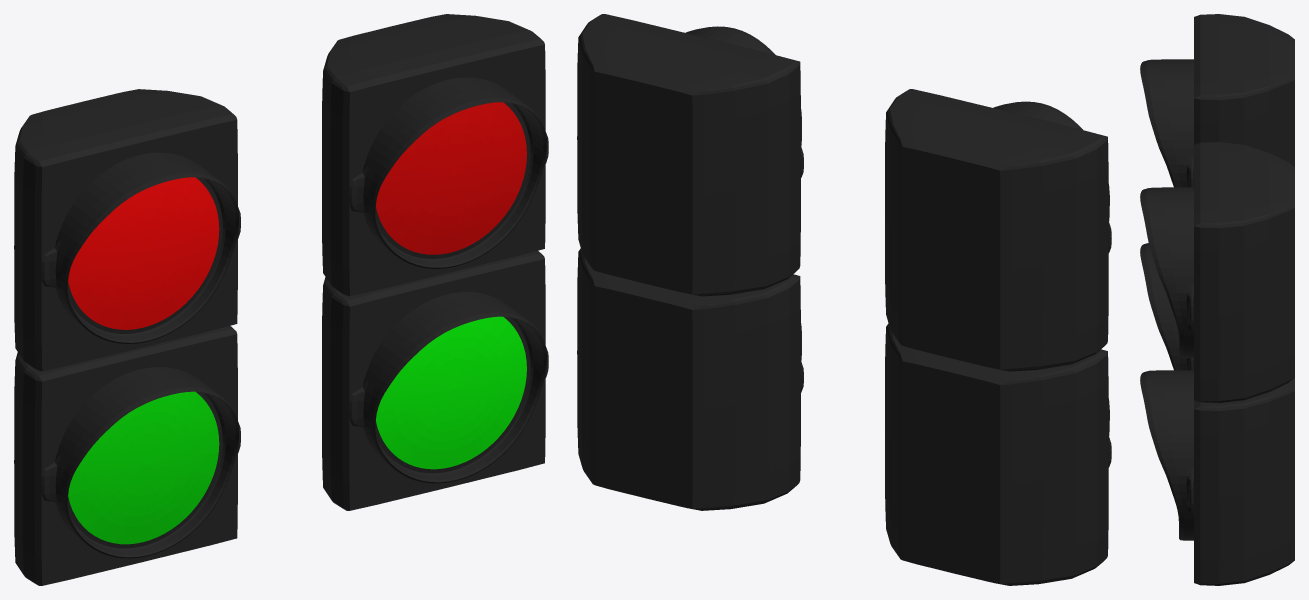
The model's file is trafficlights_pedestrian.fbx.
3 renders of one model, left to right at view 1: azimuth 30°, elevation 25°; view 2: azimuth 150°, elevation 25°; view 3: azimuth 270°, elevation 25°, orthographic. The views are drawn at different scales.
Parts seen in each view (by area): view 1: Pedestrian_Green, Pedestrian_Red; view 2: Pedestrian_Red, Pedestrian_Green; view 3: Pedestrian_Green, Pedestrian_Red.
Part boxes in pixels (x1,y1,x2,y2): Pedestrian_Green: (322, 14, 548, 510); Pedestrian_Red: (14, 89, 240, 585); Pedestrian_Red: (885, 89, 1111, 585); Pedestrian_Green: (577, 14, 803, 510); Pedestrian_Green: (1140, 142, 1294, 585); Pedestrian_Red: (1140, 14, 1294, 370).
Bounding box in the file's own units: 50.03 × 40 × 15.34.
